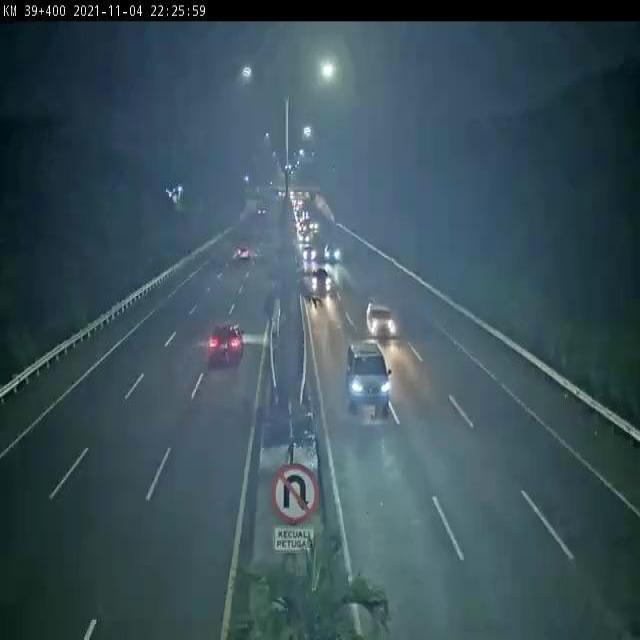car: (347, 340, 390, 412), (211, 322, 243, 362), (367, 303, 396, 337), (310, 269, 334, 295), (323, 242, 344, 262), (303, 244, 317, 261), (238, 244, 251, 260), (308, 220, 319, 231), (299, 232, 309, 243)
